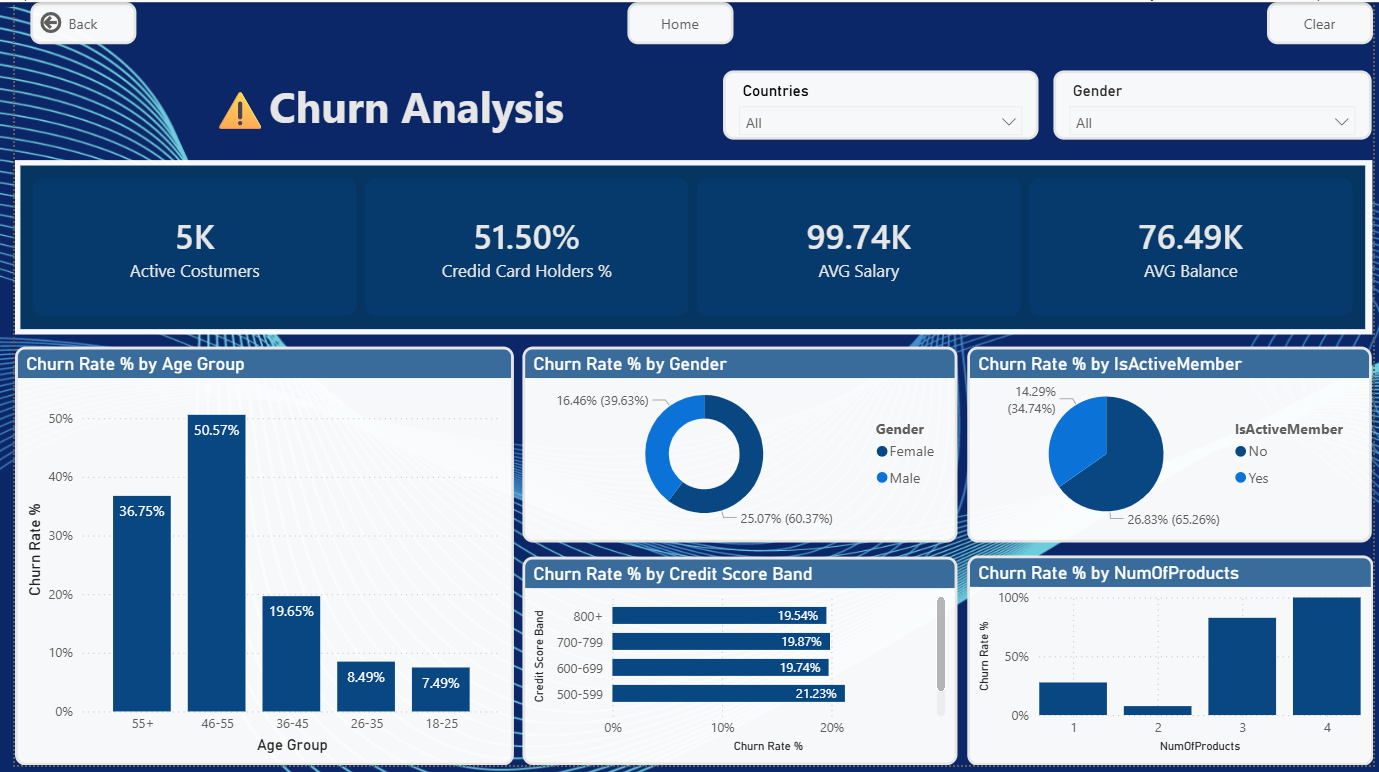

Layout of this report page (visuals, bound fields, positions):
{"tool":"powerbi","page":{"name":"⚠️Churn Analysis","canvas":[1280,720],"ordinal":2},"visuals":[{"type":"cardVisual","fields":{"Data":["Bank_churn.Active Costumers","Bank_churn.Credid Card Holders %","Bank_churn.AVG Salary","Bank_churn.AVG Balance"]},"box":[0,149.1,1279.3,164.6],"z":0},{"type":"lineClusteredColumnComboChart","fields":{"Category":["Bank_churn.Age Group"],"Y":["Bank_churn.Churn Rate %"]},"box":[0,324.8,470.6,394.9],"z":1000},{"type":"donutChart","fields":{"Category":["Bank_churn.Gender"],"Y":["Bank_churn.Churn Rate %"]},"box":[478.3,324.8,410.5,184.7],"z":2000},{"type":"clusteredColumnChart","fields":{"Category":["Bank_churn.NumOfProducts"],"Y":["Bank_churn.Churn Rate %"]},"box":[897.7,521.7,382.7,198],"z":3000},{"type":"barChart","fields":{"Category":["Bank_churn.Credit Score Band"],"Y":["Bank_churn.Churn Rate %"]},"box":[478.3,522.8,410.5,196.9],"z":4000},{"type":"pieChart","fields":{"Y":["Bank_churn.Churn Rate %"],"Category":["Bank_churn.IsActiveMember"]},"box":[897.7,324.8,381.6,184.7],"z":7000},{"type":"actionButton","box":[14.5,0,100.1,40],"z":8000},{"type":"actionButton","box":[1179.9,0,100.1,40],"z":9000},{"type":"actionButton","box":[577.3,0,100.1,40],"z":10000},{"type":"slicer","fields":{"Values":["Bank_churn.Geography"]},"box":[667.8,64.4,297.8,65.6],"z":10001},{"type":"slicer","fields":{"Values":["Bank_churn.Gender"]},"box":[978.9,64.4,300,65.6],"z":10002},{"type":"actionButton","box":[34.4,64.4,633.3,65.6],"z":10003}]}

Visuals, with their boxes in screenshot pixels (x1, y1, x2, y2), scaled from the page's 1280x720 canvas onto the 1379x772 screenshot:
cardVisual - Bank_churn.Active Costumers x Bank_churn.Credid Card Holders %: 0,160,1378,336
lineClusteredColumnComboChart - Bank_churn.Age Group x Bank_churn.Churn Rate %: 0,348,507,771
donutChart - Bank_churn.Gender x Bank_churn.Churn Rate %: 515,348,958,546
clusteredColumnChart - Bank_churn.NumOfProducts x Bank_churn.Churn Rate %: 967,559,1378,771
barChart - Bank_churn.Credit Score Band x Bank_churn.Churn Rate %: 515,561,958,771
pieChart - Bank_churn.Churn Rate % x Bank_churn.IsActiveMember: 967,348,1378,546
actionButton: 16,0,123,43
actionButton: 1271,0,1378,43
actionButton: 622,0,730,43
slicer - Bank_churn.Geography: 719,69,1040,139
slicer - Bank_churn.Gender: 1055,69,1378,139
actionButton: 37,69,719,139
